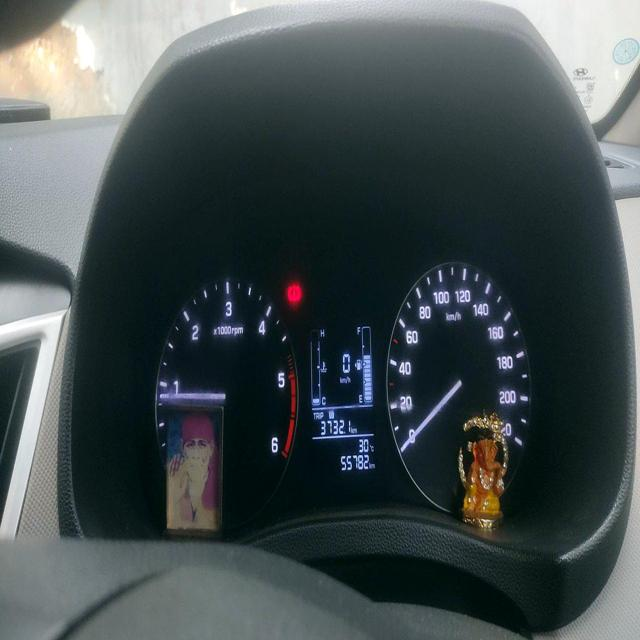odometer: (339, 451, 370, 472)
